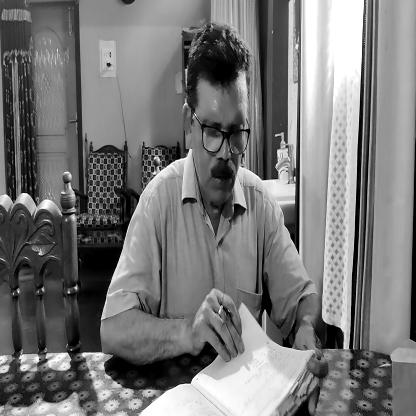Normal: (190, 72, 253, 219)
